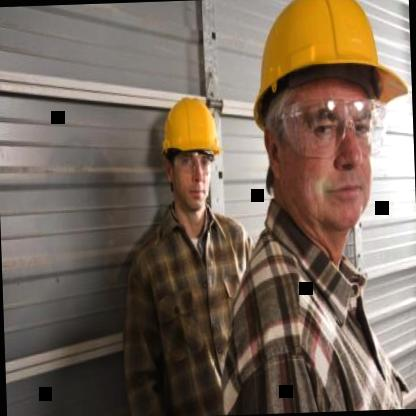helmet: (238, 0, 414, 255), (152, 76, 232, 231)
